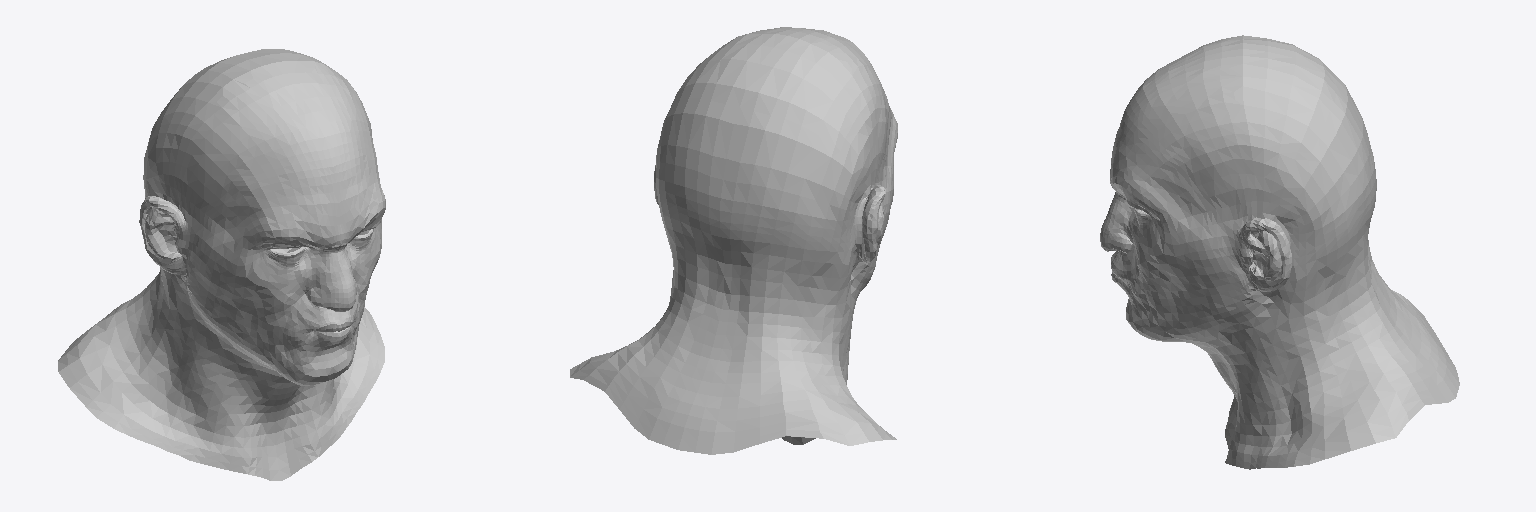
Rendered from Victor_angryKiss.obj.
The picture shows the model from 3 angles: view 1: azimuth 30°, elevation 25°; view 2: azimuth 150°, elevation 25°; view 3: azimuth 270°, elevation 25°; orthographic projection.
Parts seen in each view (by area): view 1: Victor_headGEO Victor_Mesh def:geo FTI_Victor; view 2: Victor_headGEO Victor_Mesh def:geo FTI_Victor; view 3: Victor_headGEO Victor_Mesh def:geo FTI_Victor.
Part boxes in pixels (bbox=[...]): Victor_headGEO Victor_Mesh def:geo FTI_Victor: bbox=[58, 49, 385, 480]; Victor_headGEO Victor_Mesh def:geo FTI_Victor: bbox=[570, 27, 897, 454]; Victor_headGEO Victor_Mesh def:geo FTI_Victor: bbox=[1100, 35, 1459, 469].
Bounding box in the file's own units: 3.54 × 4.64 × 3.65.